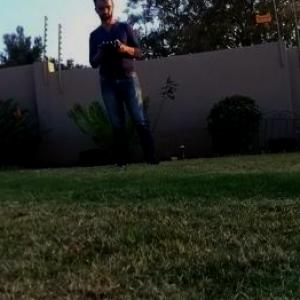follow: (85, 0, 167, 173)
